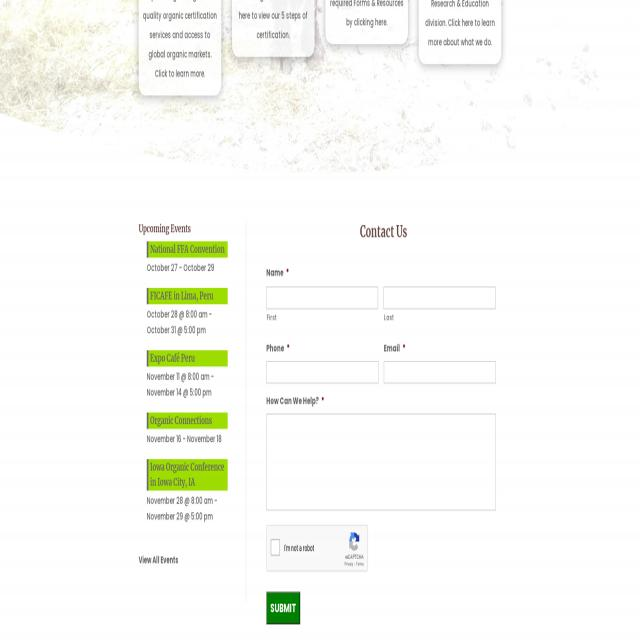button: (266, 592, 300, 624)
field: (266, 414, 496, 510), (266, 361, 378, 384), (384, 361, 496, 384), (266, 287, 378, 309), (384, 287, 496, 309), (271, 540, 280, 555)
